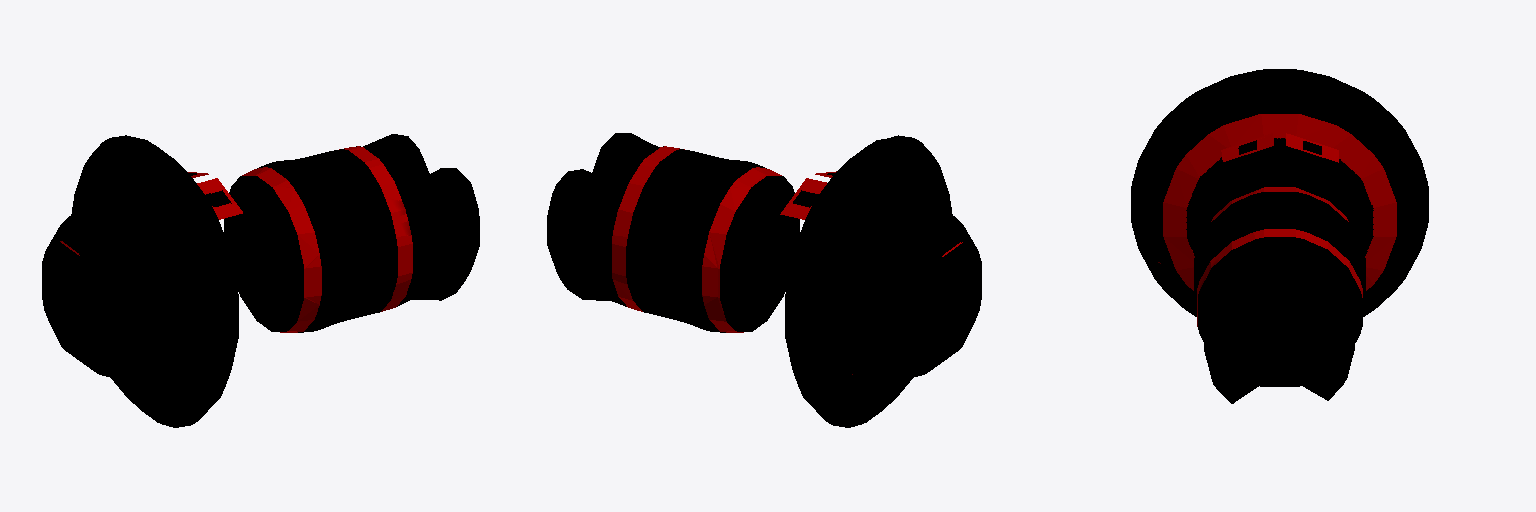
The picture shows the model from 3 angles: view 1: azimuth 30°, elevation 25°; view 2: azimuth 150°, elevation 25°; view 3: azimuth 270°, elevation 25°; orthographic projection.
Parts seen in each view (by area): view 1: Mball.006; view 2: Mball.006; view 3: Mball.006.
Boxes of the visible parts, box(x1,y1,x2,y2) form: Mball.006: box(42, 134, 479, 427); Mball.006: box(547, 133, 981, 427); Mball.006: box(1131, 69, 1428, 403).
Size of the model in its own units: 1.53 by 0.9939 by 0.9939.
Materials: 1 (1 with a texture image).